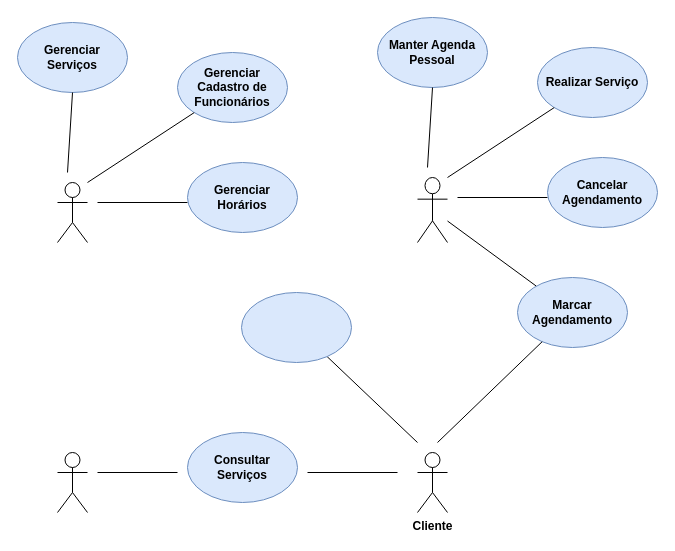
Some shapes in this 675 by 551 pixel diagram are drawn without their labels. The shapes that lost their labels are listed below. From the top down, each one's centre as x and y in pixels, then its label:
At [72,212]: "Adm".
At [432,209]: "Funcionário".
At [296,327]: "Gerenciar Cadastro".
At [72,482]: "Usuário".
